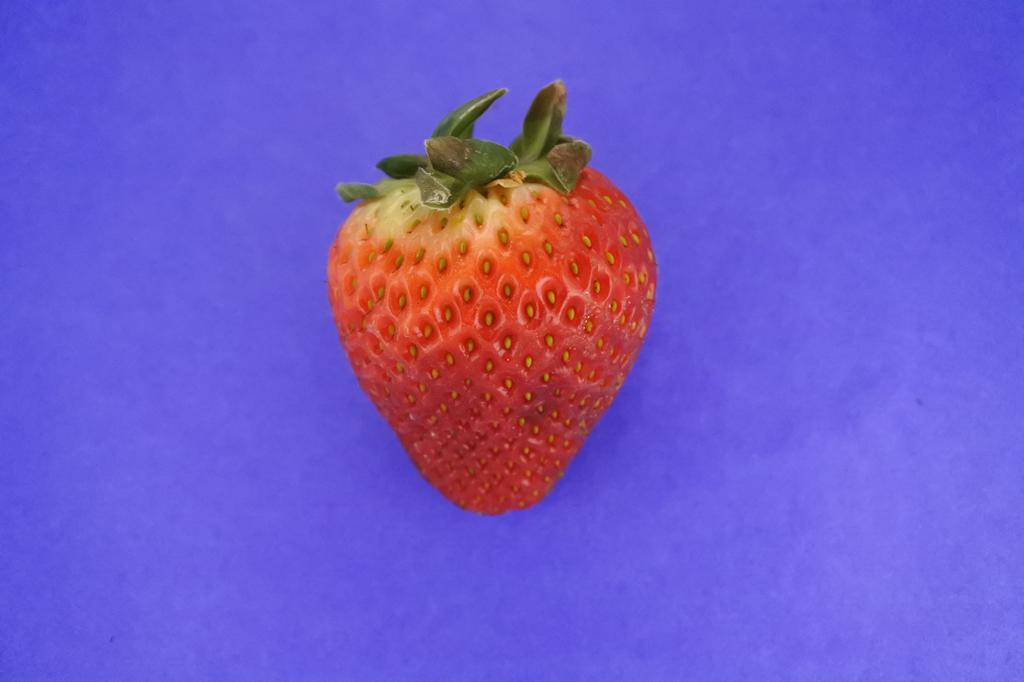red strawberry: (327, 81, 658, 516)
